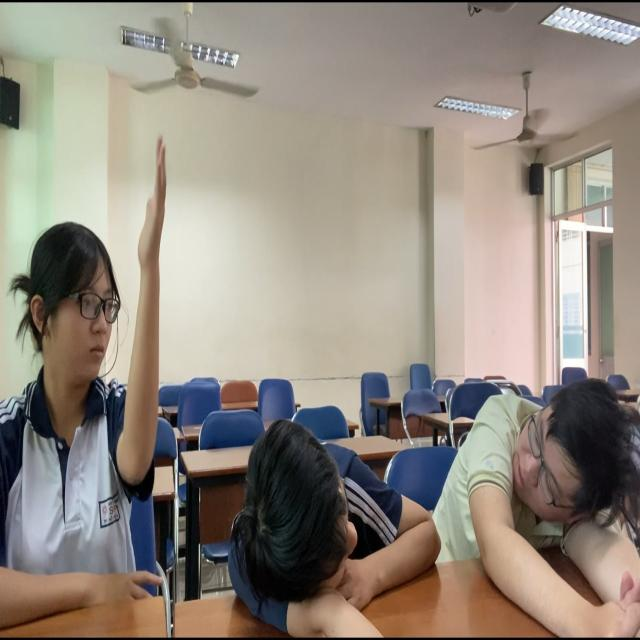raise_hand: (3, 101, 187, 640)
sleep: (220, 381, 469, 640), (443, 327, 640, 640)
